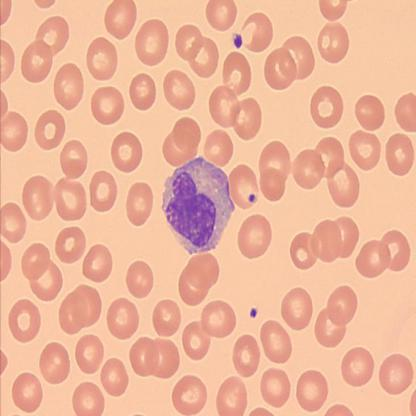Monocyte: (160, 154, 237, 258)
